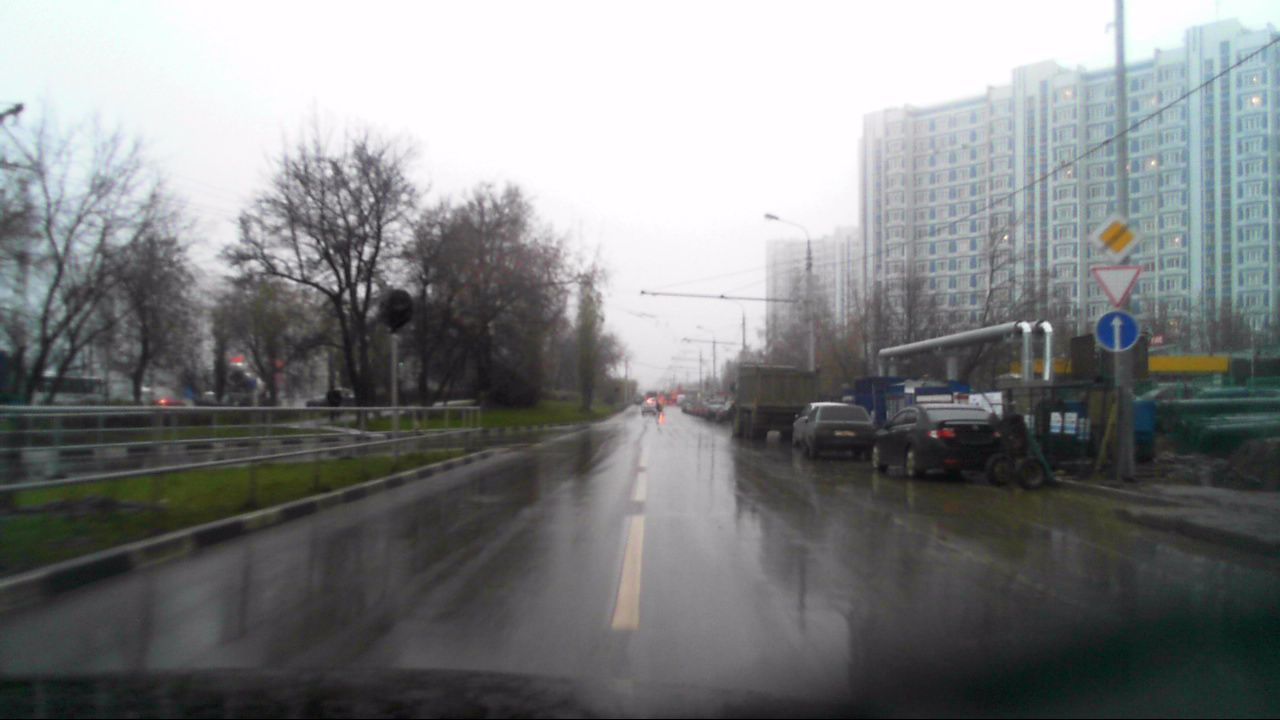main road: (1094, 212, 1141, 264)
